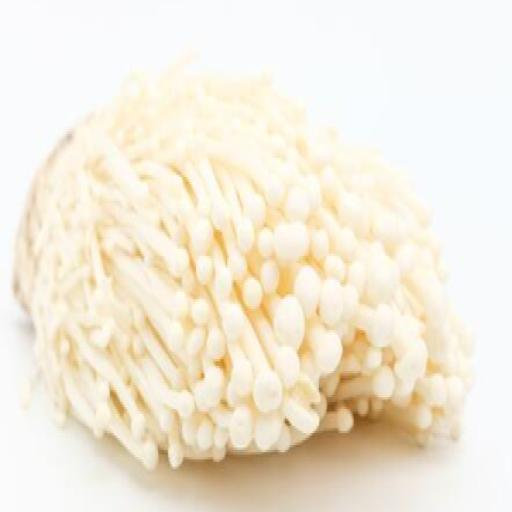Enoki Mushroom: (0, 38, 489, 497)
